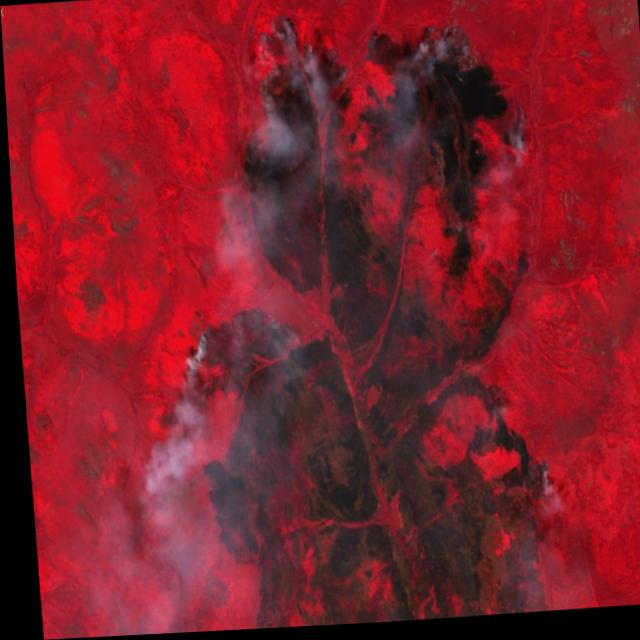fire: (229, 1, 533, 192), (169, 297, 292, 412), (482, 416, 547, 526)
